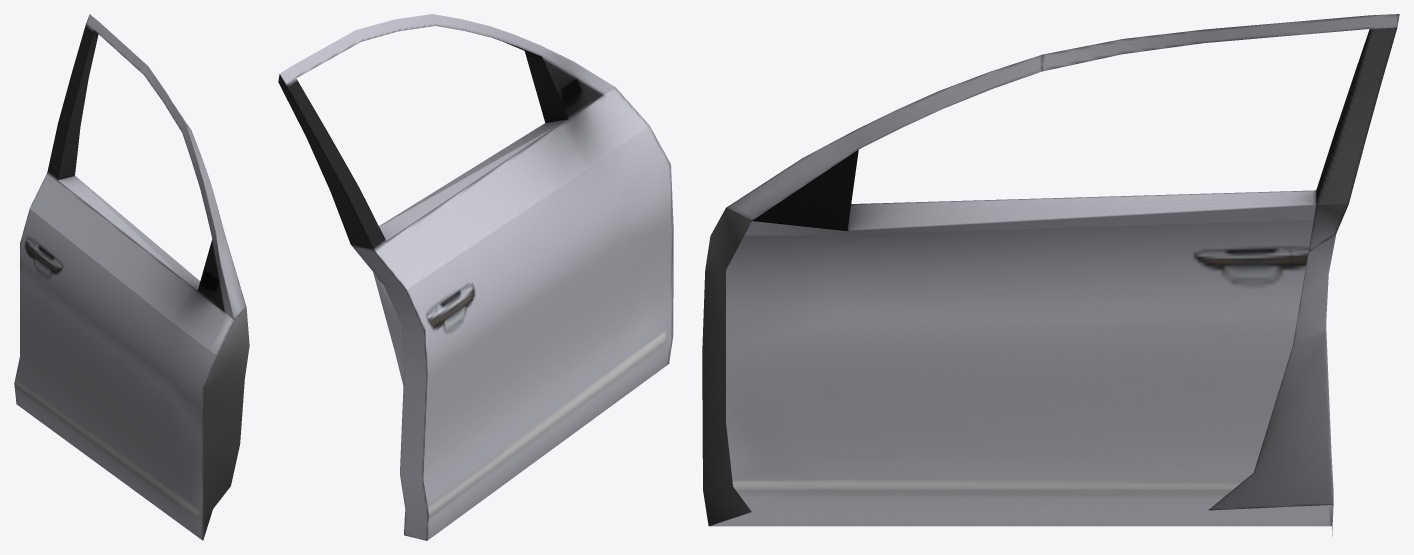
The model's file is waiqianchemen002.FBX.
3 views of the same model, side by side, from view 1: azimuth 30°, elevation 25°; view 2: azimuth 150°, elevation 25°; view 3: azimuth 270°, elevation 25° (orthographic). The views are drawn at different scales.
Visible parts, largest first — view 1: waiqianchemen002; view 2: waiqianchemen002; view 3: waiqianchemen002.
Part boxes in pixels (x1=…): waiqianchemen002: x1=14, y1=14, x2=249, y2=540; waiqianchemen002: x1=278, y1=14, x2=673, y2=540; waiqianchemen002: x1=702, y1=14, x2=1399, y2=536.
Bounding box in the file's own units: 169 × 588 × 632.
